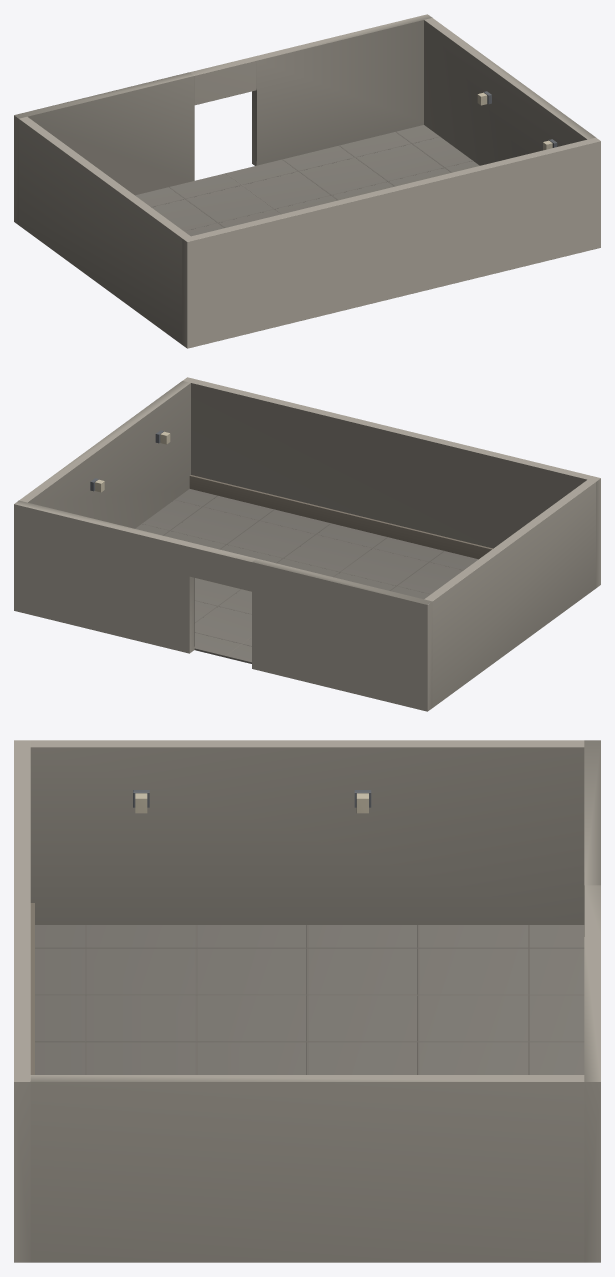
The model's file is jail_room.glb.
3 renders of one model, top to bottom at view 1: azimuth 30°, elevation 25°; view 2: azimuth 150°, elevation 25°; view 3: azimuth 270°, elevation 25°, orthographic. The views are drawn at different scales.
Bounding box in the file's own units: 14.61 × 3.6 × 10.6.
